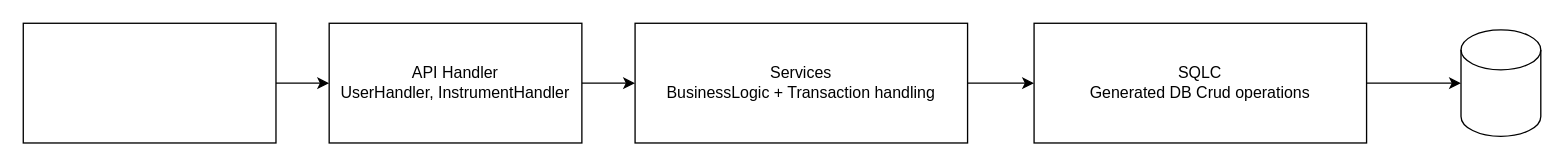
Some shapes in this 1564 by 166 pixel diagram are drawn without their labels. The shapes that lost their labels are listed below. From the top down, each one's centre as x and y in pixels, then its label:
At pixel 149 82: "Chi Router HTTP routes + Middleware".
At pixel 1500 82: "Database".
